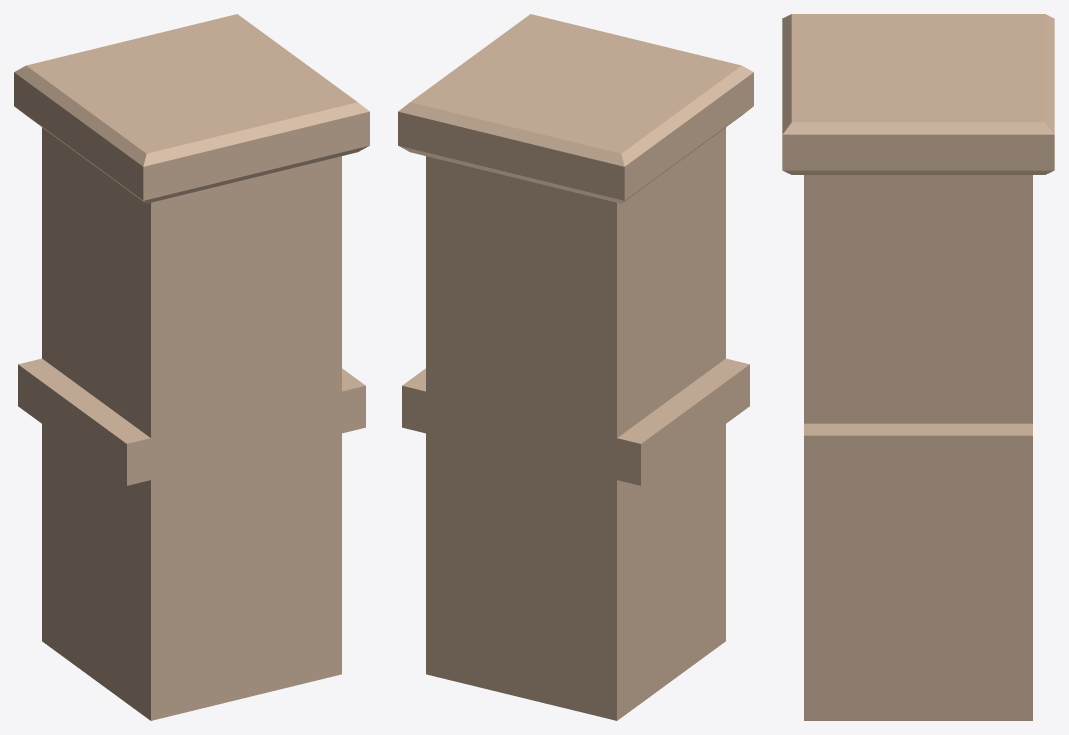
Rendered from Stone Pillar 2.fbx.
3 renders of one model, left to right at view 1: azimuth 30°, elevation 25°; view 2: azimuth 150°, elevation 25°; view 3: azimuth 270°, elevation 25°, orthographic. The views are drawn at different scales.
Parts seen in each view (by area): view 1: Stone Pillar 2; view 2: Stone Pillar 2; view 3: Stone Pillar 2.
Part boxes in pixels (bbox=[...]): Stone Pillar 2: bbox=[14, 14, 369, 720]; Stone Pillar 2: bbox=[398, 14, 753, 720]; Stone Pillar 2: bbox=[782, 14, 1054, 720].
Bounding box in the file's own units: 0.7299 × 0.6841 × 1.67.
